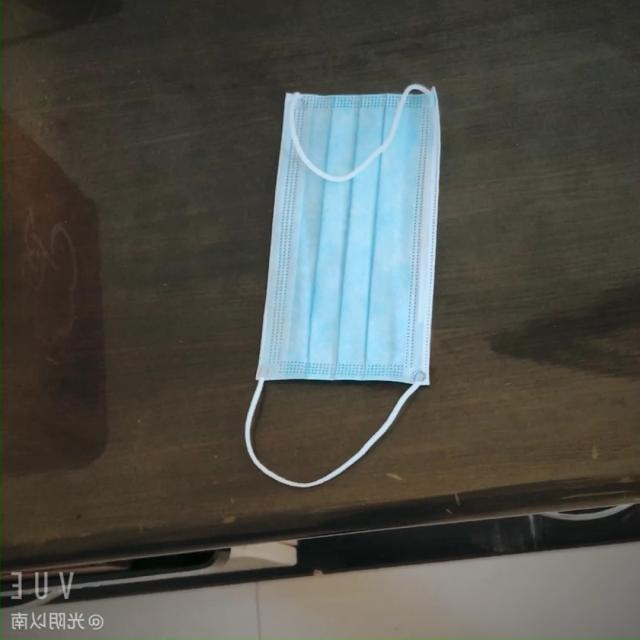face mask: (254, 69, 453, 398)
